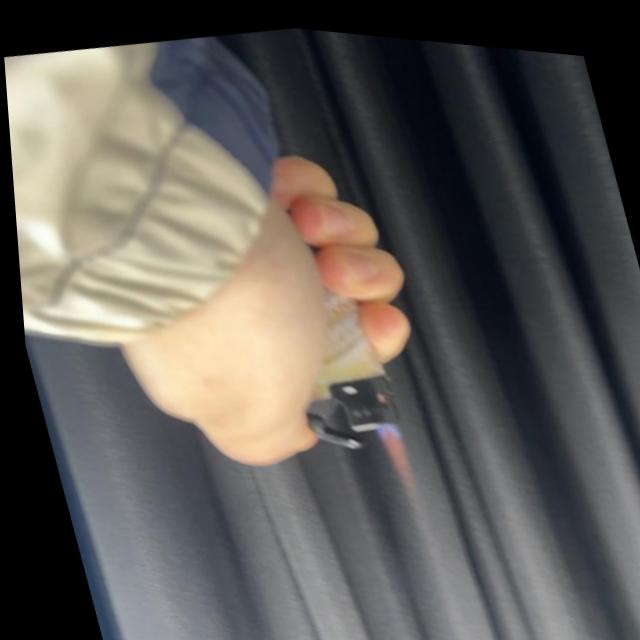Fire: (364, 410, 414, 491)
